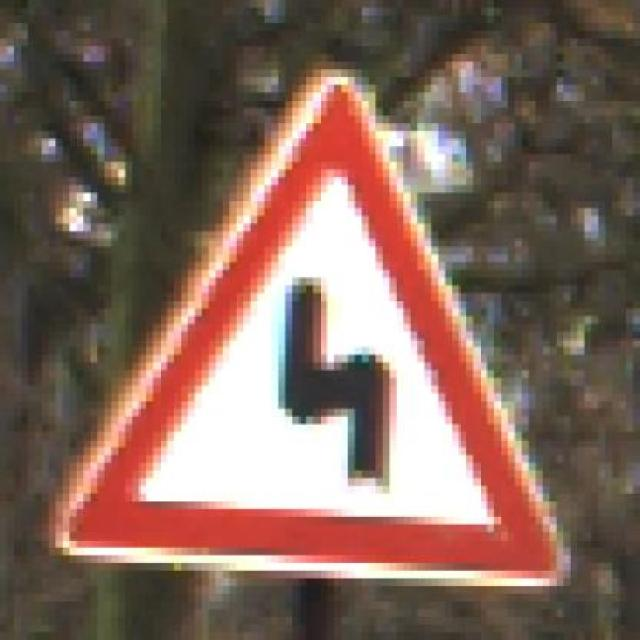Left Zig Zag Traffic: (56, 61, 584, 594)
